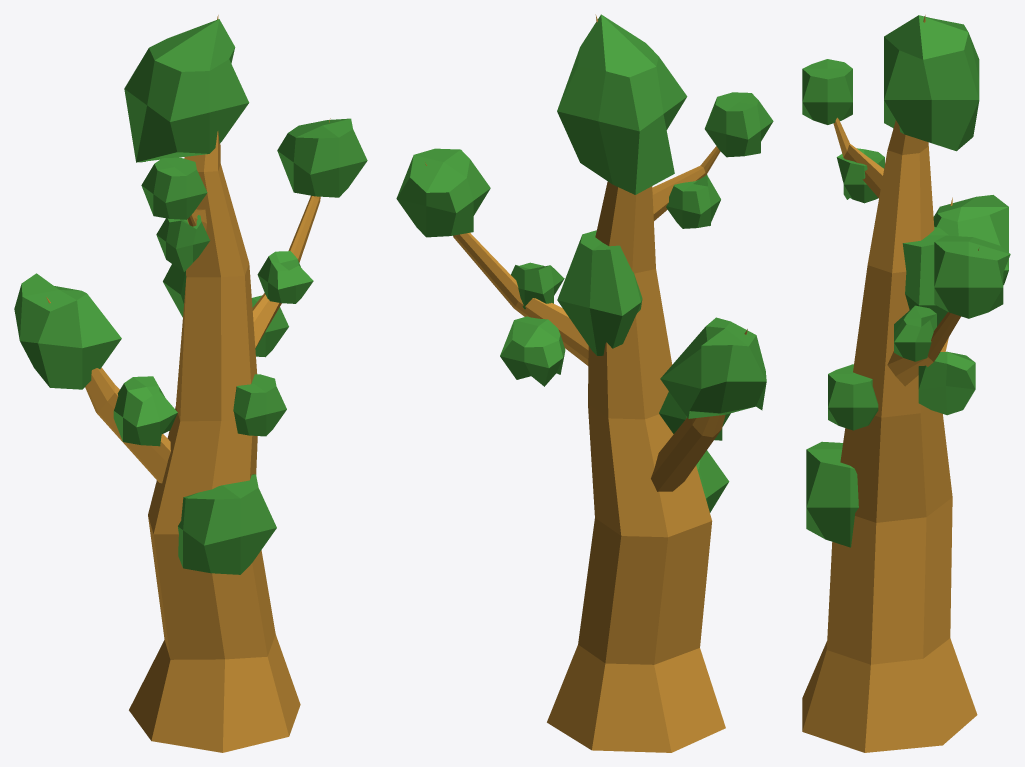
Rendered from tree.fbx.
3 renders of one model, left to right at view 1: azimuth 30°, elevation 25°; view 2: azimuth 150°, elevation 25°; view 3: azimuth 270°, elevation 25°, orthographic. The views are drawn at different scales.
Parts seen in each view (by area): view 1: Tree, Folige; view 2: Tree, Folige; view 3: Tree, Folige.
Boxes of the visible parts, x1,y1,x2,y2 form: Tree: (46, 15, 330, 752); Folige: (14, 19, 367, 574); Tree: (425, 14, 747, 752); Folige: (396, 14, 773, 512); Tree: (802, 15, 978, 752); Folige: (802, 15, 1010, 547).
Bounding box in the file's own units: 490 × 955 × 253.
